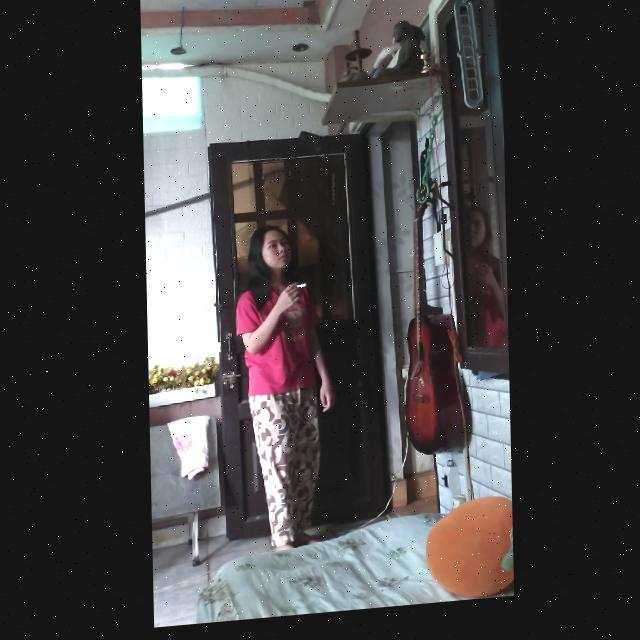cigarette: (295, 290, 305, 293)
